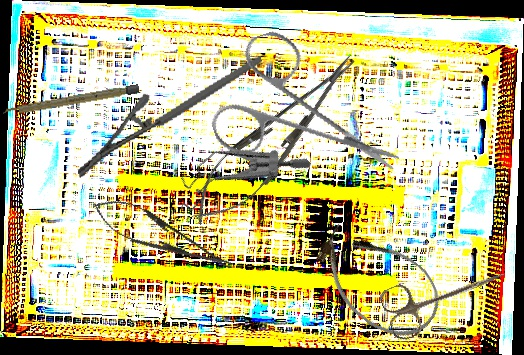Cannula: (301, 210, 454, 353)
Iris Scissors: (190, 6, 402, 218), (377, 246, 513, 344)
Needle Holder: (177, 39, 373, 240), (61, 56, 279, 178), (86, 189, 238, 283)
Scalpel Handle: (2, 84, 140, 117)
Speculum: (164, 106, 314, 249)
